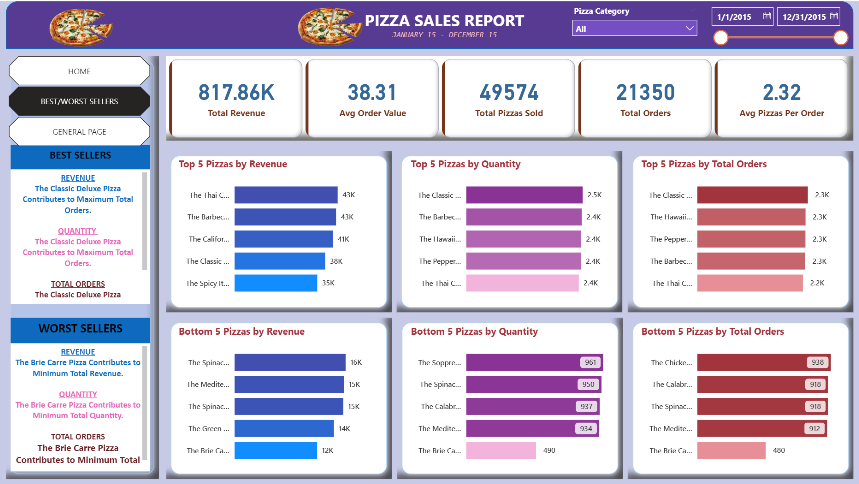

The dashboard page shown, as its layout file describes it:
{"tool":"powerbi","page":{"name":"BEST/WORST SELLERS","canvas":[1500,820],"ordinal":1},"visuals":[{"type":"cardVisual","fields":{"Data":["pizza_sales.Total Revenue","pizza_sales.Avg Order Value","pizza_sales.Total Pizzas Sold","pizza_sales.Total Orders","pizza_sales.Avg Pizzas Per Order"]},"box":[306.6,91.8,1154.1,142.6],"z":0},{"type":"shape","box":[37.7,0,1423.5,80.4],"z":1000},{"type":"textbox","box":[630.8,7.7,287.7,49.2],"z":2000},{"type":"textbox","box":[673.8,41,201.6,39.3],"z":3000},{"type":"shape","box":[37.7,91.8,257.5,710.1],"z":4000},{"type":"shape","box":[306.7,250.9,378.8,270.6],"z":5000},{"type":"textbox","box":[45.9,241.1,234.5,42.6],"z":6000},{"type":"textbox","box":[45.9,282.1,234.5,226.3],"z":7000},{"type":"textbox","box":[45.9,531.4,234.5,42.6],"z":8000},{"type":"textbox","box":[45.9,574,234.5,214.8],"z":9000},{"type":"slicer","fields":{"Values":["pizza_sales.pizza_category"]},"box":[979.1,1.6,229.6,64],"z":10000},{"type":"slicer","fields":{"Values":["pizza_sales.order_date"]},"box":[1210.3,0,250.9,80.4],"z":11000},{"type":"shape","box":[693.7,250.9,378.8,270.6],"z":12000},{"type":"shape","box":[1082.4,250.9,378.8,270.6],"z":13000},{"type":"shape","box":[306.7,531.4,378.8,270.6],"z":14000},{"type":"shape","box":[695.4,531.4,378.8,270.6],"z":15000},{"type":"shape","box":[1082.4,531.4,378.8,270.6],"z":16000},{"type":"barChart","title":"Top 5 Pizzas by Revenue","fields":{"Category":["pizza_sales.pizza_name"],"Y":["pizza_sales.Total Revenue"]},"box":[323.1,262.4,342.8,246],"z":17000},{"type":"barChart","title":"Bottom 5 Pizzas by Revenue","fields":{"Category":["pizza_sales.pizza_name"],"Y":["pizza_sales.Total Revenue"]},"box":[323.1,542.8,342.8,246],"z":18000},{"type":"barChart","title":"Top 5 Pizzas by Quantity","fields":{"Category":["pizza_sales.pizza_name"],"Y":["pizza_sales.Total Pizzas Sold"]},"box":[712.6,261.8,342.5,246.1],"z":19000},{"type":"barChart","title":"Bottom 5 Pizzas by Quantity","fields":{"Category":["pizza_sales.pizza_name"],"Y":["pizza_sales.Total Pizzas Sold"]},"box":[712.6,543.3,342.5,246.1],"z":20000},{"type":"barChart","title":"Top 5 Pizzas by Total Orders","fields":{"Category":["pizza_sales.pizza_name"],"Y":["pizza_sales.Total Orders"]},"box":[1100.4,261.8,342.5,246.1],"z":21000},{"type":"barChart","title":"Bottom 5 Pizzas by Total Orders","fields":{"Category":["pizza_sales.pizza_name"],"Y":["pizza_sales.Total Orders"]},"box":[1100.4,543.3,342.5,246.1],"z":22000},{"type":"pageNavigator","box":[42.6,91.8,237.8,49.2],"z":23000},{"type":"pageNavigator","box":[42.6,142.7,237.8,49.2],"z":24000},{"type":"pageNavigator","box":[42.6,193.5,237.8,49.2],"z":25000},{"type":"image","box":[447.7,0,265.7,83.6],"z":26000},{"type":"image","box":[29.5,1.6,265.7,83.6],"z":27000}]}

Visuals, with their boxes in screenshot pixels (x1, y1, x2, y2), scaled from the page's 1500x820 canvas onto the 859x484 screenshot:
cardVisual - pizza_sales.Total Revenue x pizza_sales.Avg Order Value: <region>176, 54, 836, 138</region>
shape: <region>22, 0, 837, 47</region>
textbox: <region>361, 5, 526, 34</region>
textbox: <region>386, 24, 501, 47</region>
shape: <region>22, 54, 169, 473</region>
shape: <region>176, 148, 393, 308</region>
textbox: <region>26, 142, 161, 167</region>
textbox: <region>26, 167, 161, 300</region>
textbox: <region>26, 314, 161, 339</region>
textbox: <region>26, 339, 161, 466</region>
slicer - pizza_sales.pizza_category: <region>561, 1, 692, 39</region>
slicer - pizza_sales.order_date: <region>693, 0, 837, 47</region>
shape: <region>397, 148, 614, 308</region>
shape: <region>620, 148, 837, 308</region>
shape: <region>176, 314, 393, 473</region>
shape: <region>398, 314, 615, 473</region>
shape: <region>620, 314, 837, 473</region>
"Top 5 Pizzas by Revenue" barChart: <region>185, 155, 381, 300</region>
"Bottom 5 Pizzas by Revenue" barChart: <region>185, 320, 381, 466</region>
"Top 5 Pizzas by Quantity" barChart: <region>408, 155, 604, 300</region>
"Bottom 5 Pizzas by Quantity" barChart: <region>408, 321, 604, 466</region>
"Top 5 Pizzas by Total Orders" barChart: <region>630, 155, 826, 300</region>
"Bottom 5 Pizzas by Total Orders" barChart: <region>630, 321, 826, 466</region>
pageNavigator: <region>24, 54, 161, 83</region>
pageNavigator: <region>24, 84, 161, 113</region>
pageNavigator: <region>24, 114, 161, 143</region>
image: <region>256, 0, 409, 49</region>
image: <region>17, 1, 169, 50</region>
